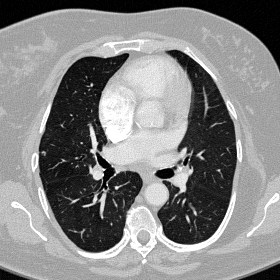nodule: (41, 151, 45, 155)
